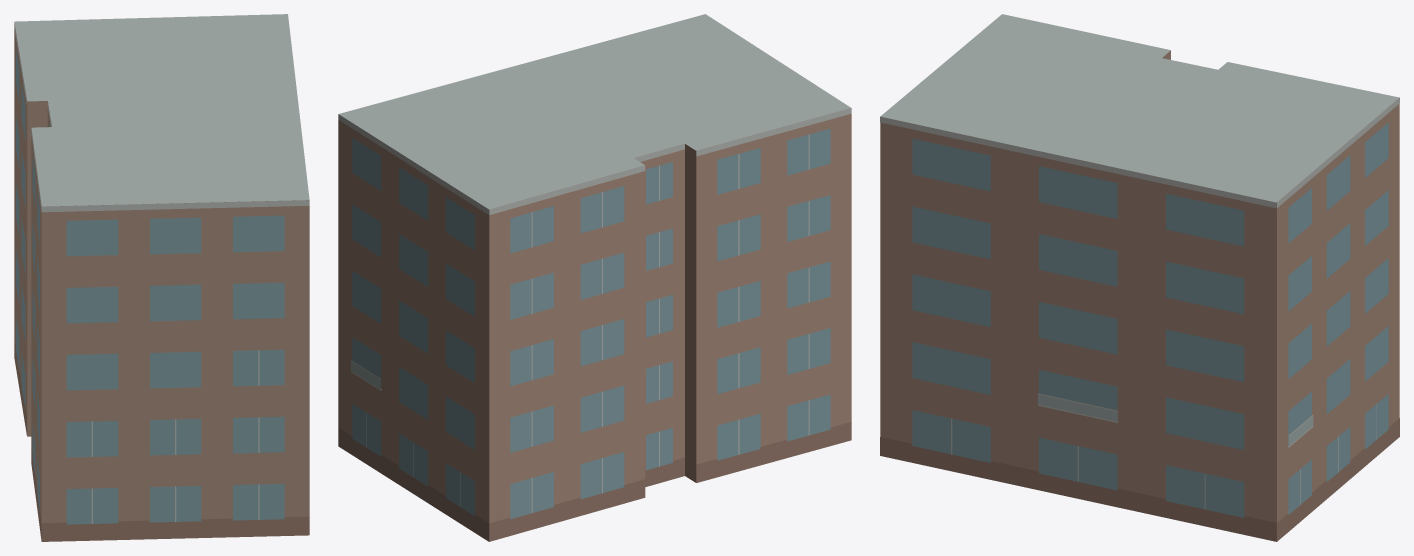
Rendered from survey-upis-32748758.glb.
3 views of the same model, side by side, from view 1: azimuth 30°, elevation 25°; view 2: azimuth 150°, elevation 25°; view 3: azimuth 270°, elevation 25° (orthographic). The views are drawn at different scales.
Parts seen in each view (by area): view 1: survey-upis-32748758.tmp; view 2: survey-upis-32748758.tmp; view 3: survey-upis-32748758.tmp.
Part boxes in pixels (<box>): survey-upis-32748758.tmp: <box>14,14,309,541</box>; survey-upis-32748758.tmp: <box>338,14,851,541</box>; survey-upis-32748758.tmp: <box>880,14,1399,541</box>.
Bounding box in the file's own units: 16.94 × 14.2 × 19.72.
